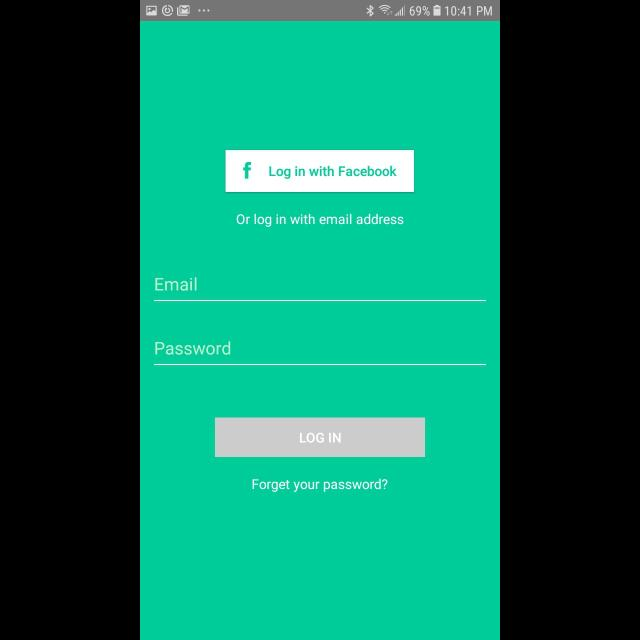input: (154, 340, 486, 366), (154, 278, 486, 302)
text: (236, 214, 404, 228), (252, 478, 388, 492), (156, 341, 230, 355), (155, 277, 197, 291)
textbutton: (215, 418, 425, 458), (226, 150, 414, 192)
uppertaskbar: (140, 1, 500, 22)
